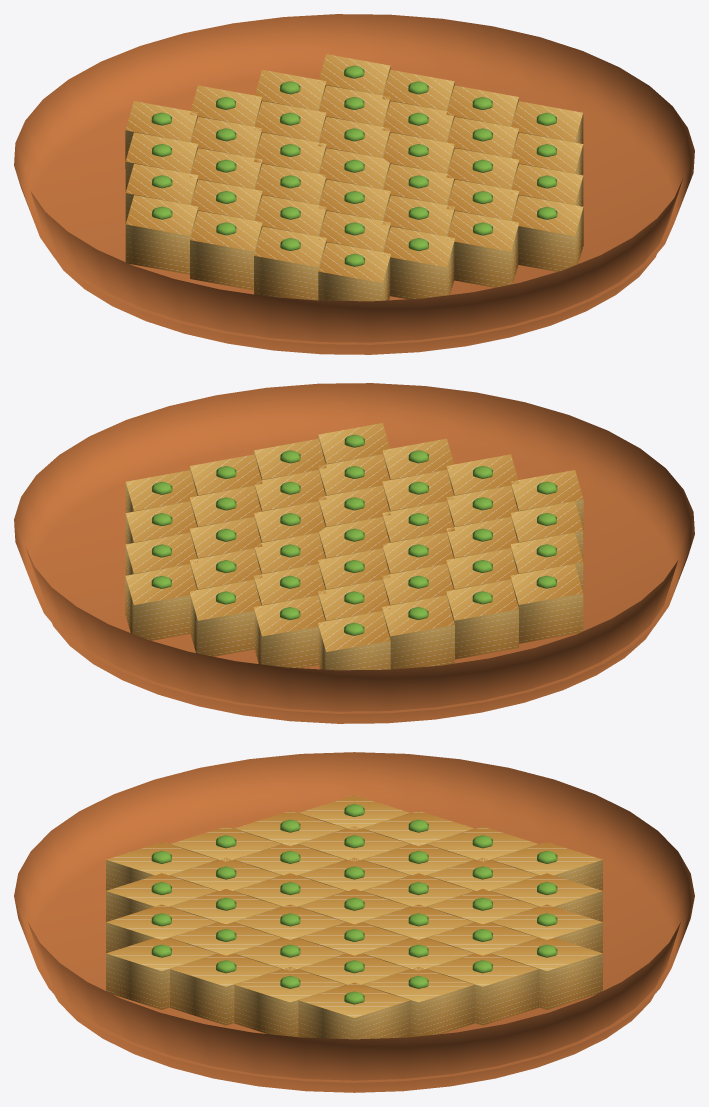
File: baklava.glb
3 renders of one model, top to bottom at view 1: azimuth 30°, elevation 25°; view 2: azimuth 150°, elevation 25°; view 3: azimuth 270°, elevation 25°, orthographic.
Parts seen in each view (by area): view 1: baklava-tepsisi; view 2: baklava-tepsisi; view 3: baklava-tepsisi.
Boxes of the visible parts, x1,y1,x2,y2 form: baklava-tepsisi: (14, 14, 694, 354); baklava-tepsisi: (14, 383, 694, 723); baklava-tepsisi: (14, 752, 694, 1092).
Bounding box in the file's own units: 0.35 × 0.037 × 0.35.
3 materials, 1 textured.
